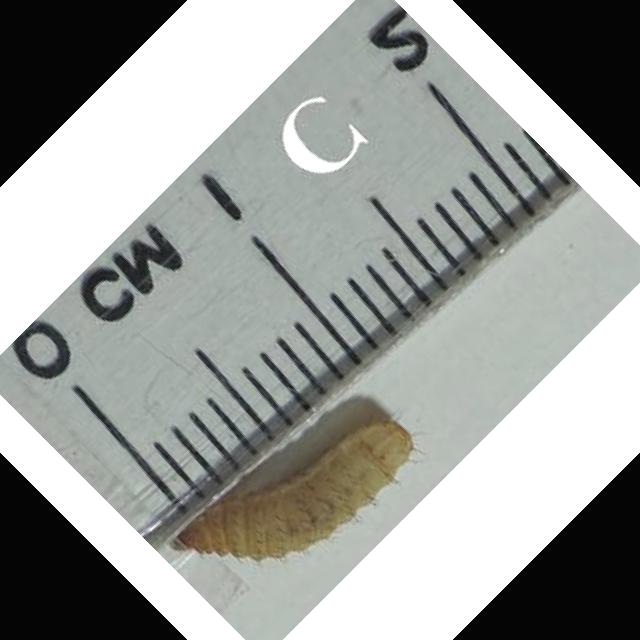Maggot: (173, 421, 414, 561)
